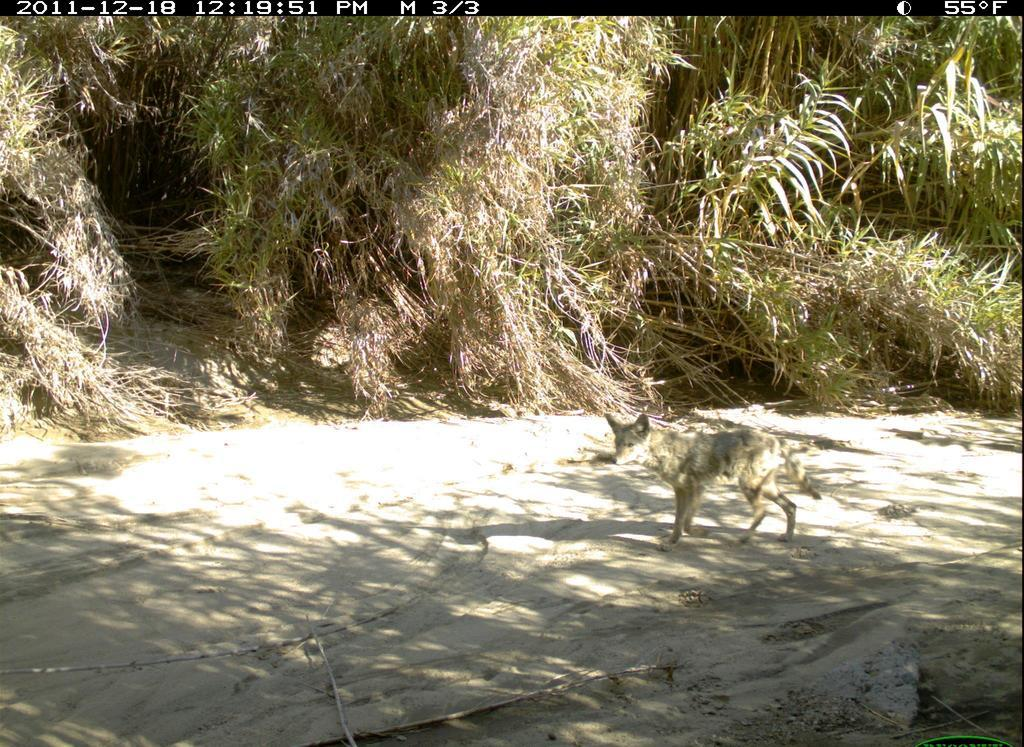coyote: (602, 402, 824, 553)
